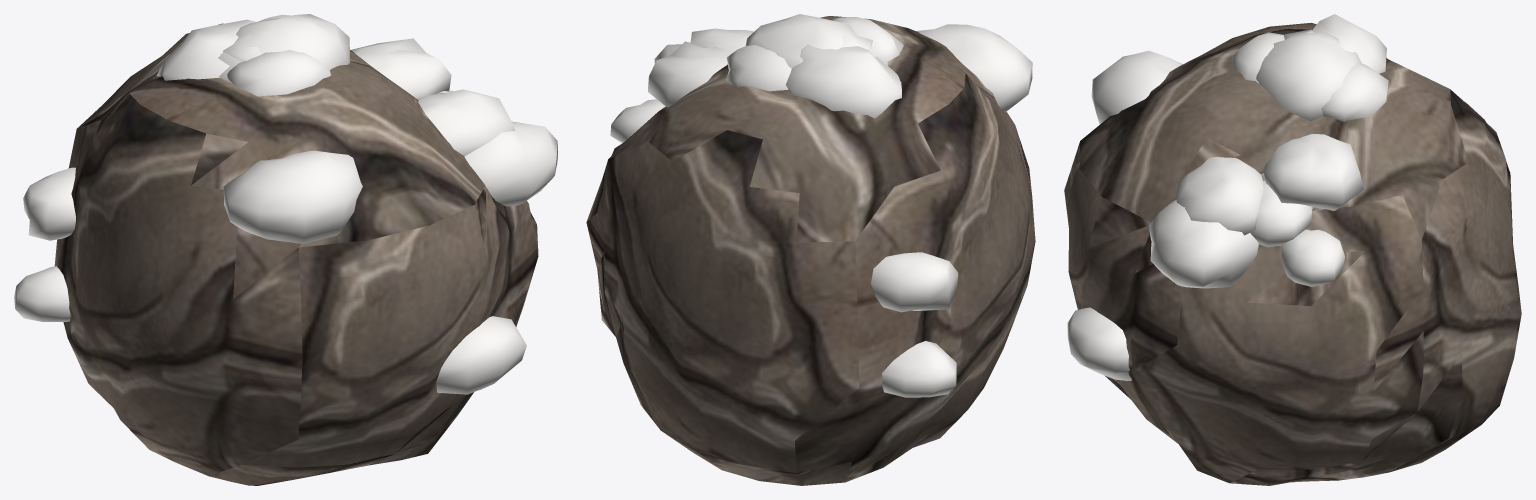
The model's file is ore_silver.glb.
3 renders of one model, left to right at view 1: azimuth 30°, elevation 25°; view 2: azimuth 150°, elevation 25°; view 3: azimuth 270°, elevation 25°, orthographic. The views are drawn at different scales.
Parts seen in each view (by area): view 1: ore_silver; view 2: ore_silver; view 3: ore_silver.
Boxes of the visible parts, box(x1,y1,x2,y2) form: ore_silver: box(14, 14, 557, 485); ore_silver: box(586, 14, 1035, 485); ore_silver: box(1064, 14, 1521, 485).
Bounding box in the file's own units: 0.5836 × 0.5783 × 0.5701.
2 materials, 1 textured.
